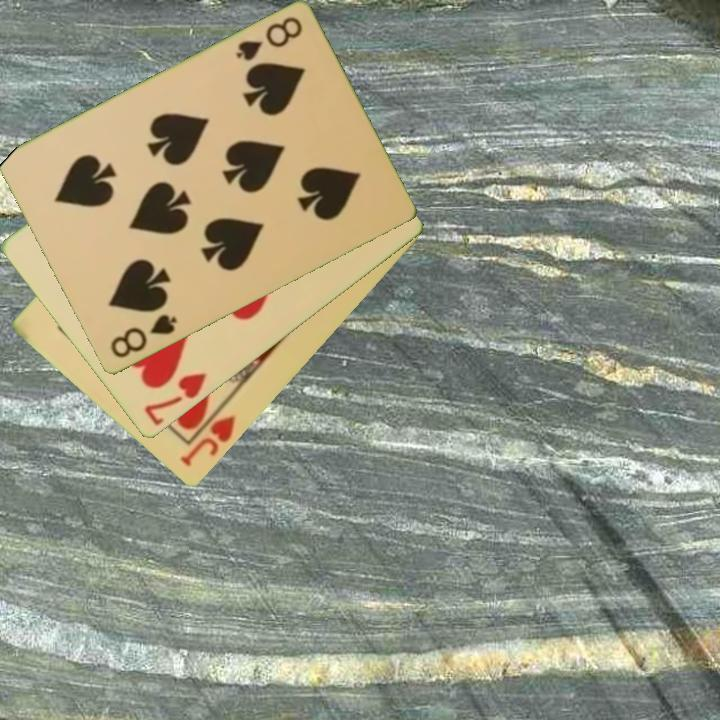7h: (140, 370, 209, 429)
8s: (232, 13, 306, 65), (106, 311, 180, 362)
Jh: (176, 411, 239, 470)
